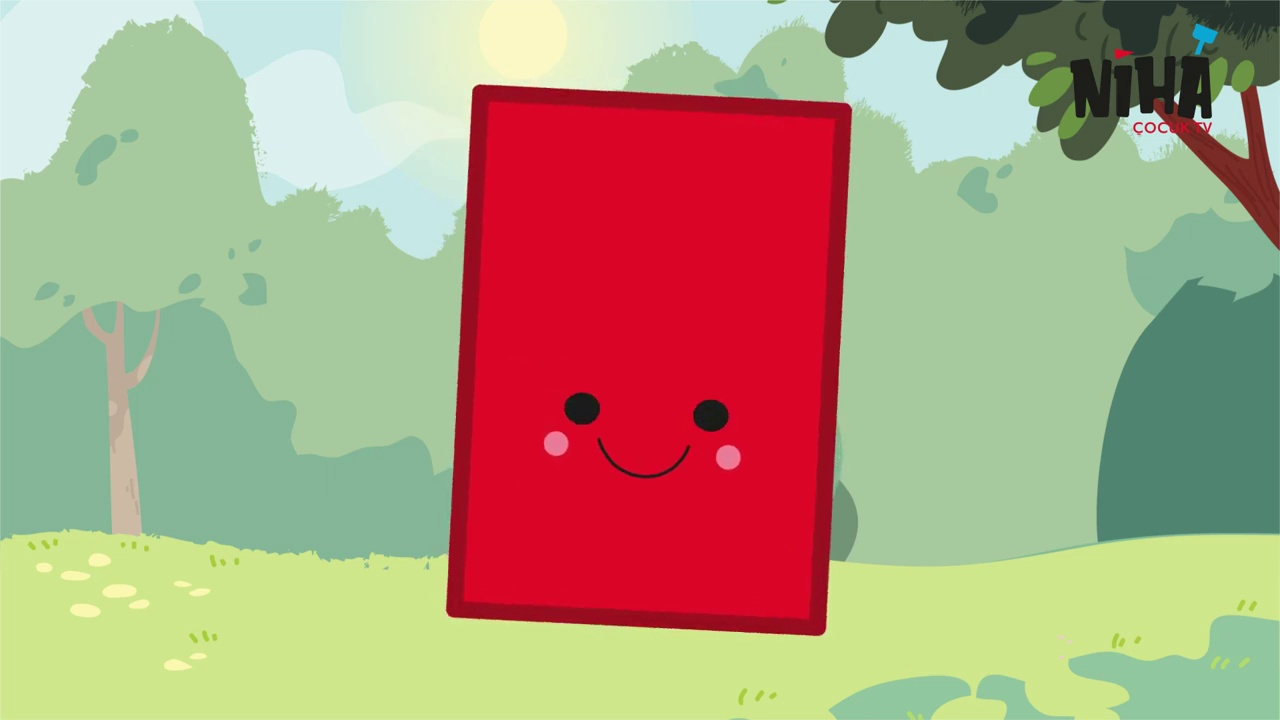dikdortgen: (443, 84, 845, 644)
